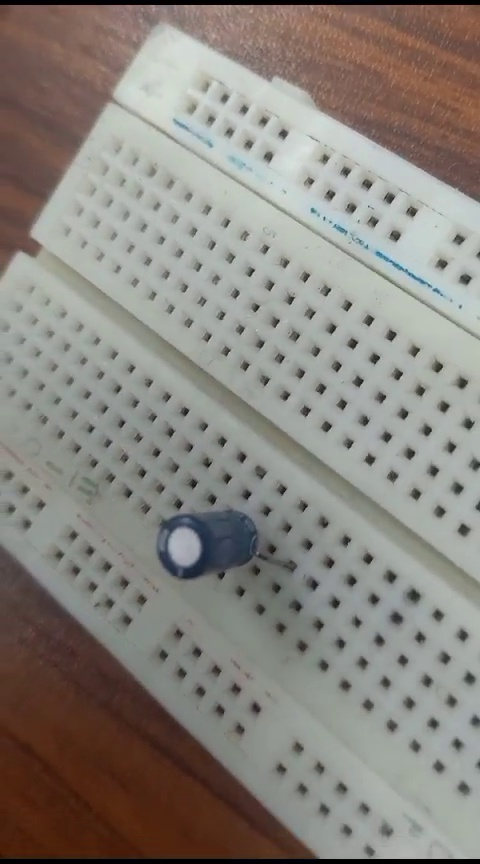capacitor: (142, 500, 324, 588)
